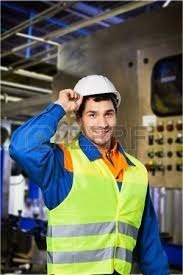helmet: (67, 73, 121, 102)
person with full safety: (46, 75, 152, 274)
safety vest: (54, 145, 145, 274)
